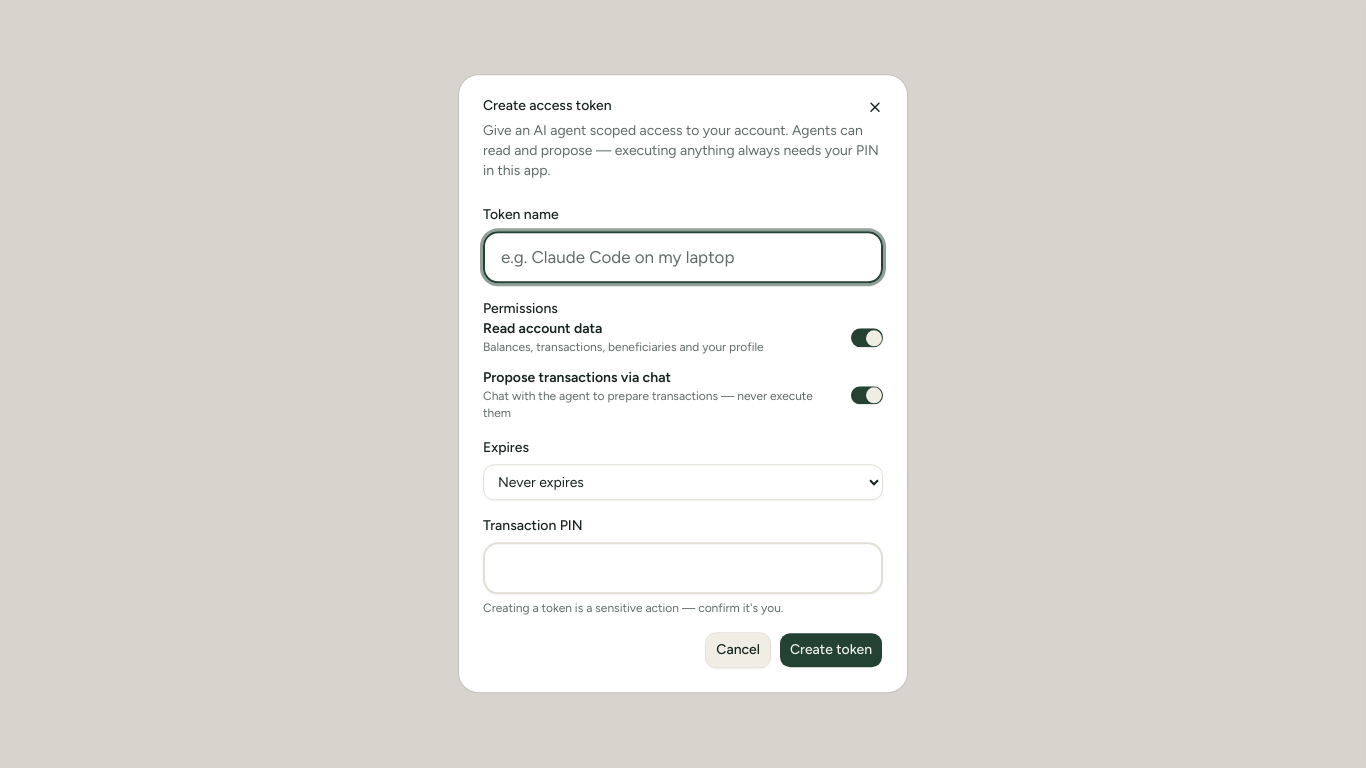
Scenario: CreateTokenDialog › shows the raw token once with the shown-once warning and a copy control
In the field labelled "Token name": (683, 257) [483, 231, 883, 283], type "Claude"
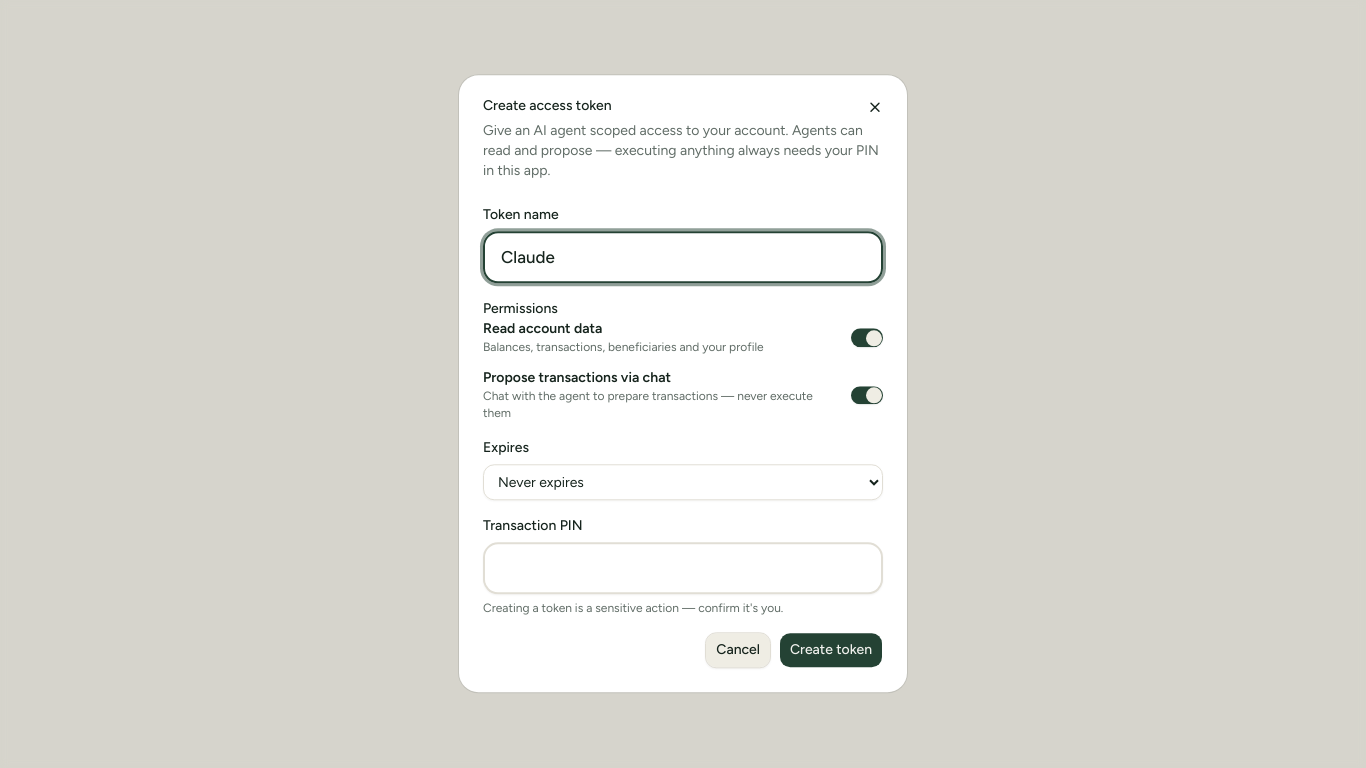
In the password field labelled "Transaction PIN": (683, 569) [483, 543, 883, 595], type "1234"
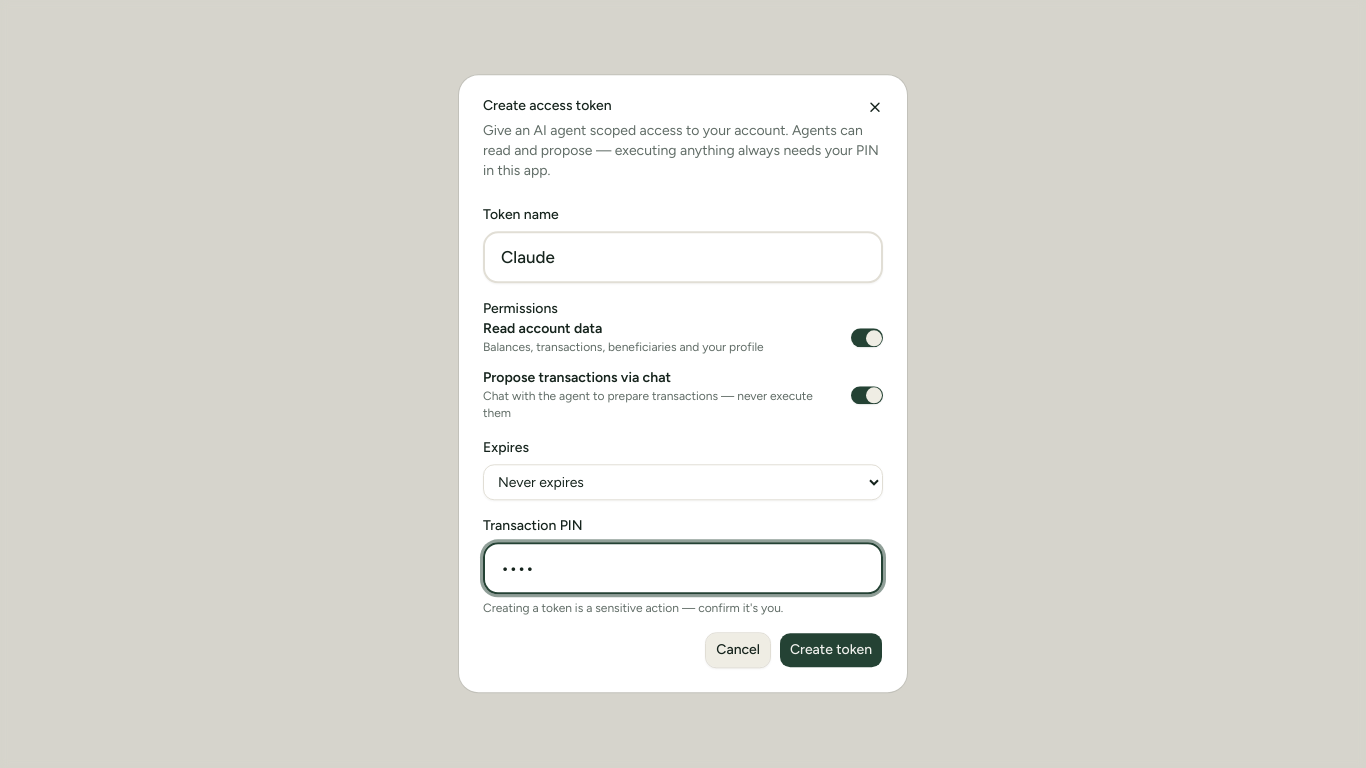
Click the button "Create token": (831, 651) [779, 633, 883, 669]
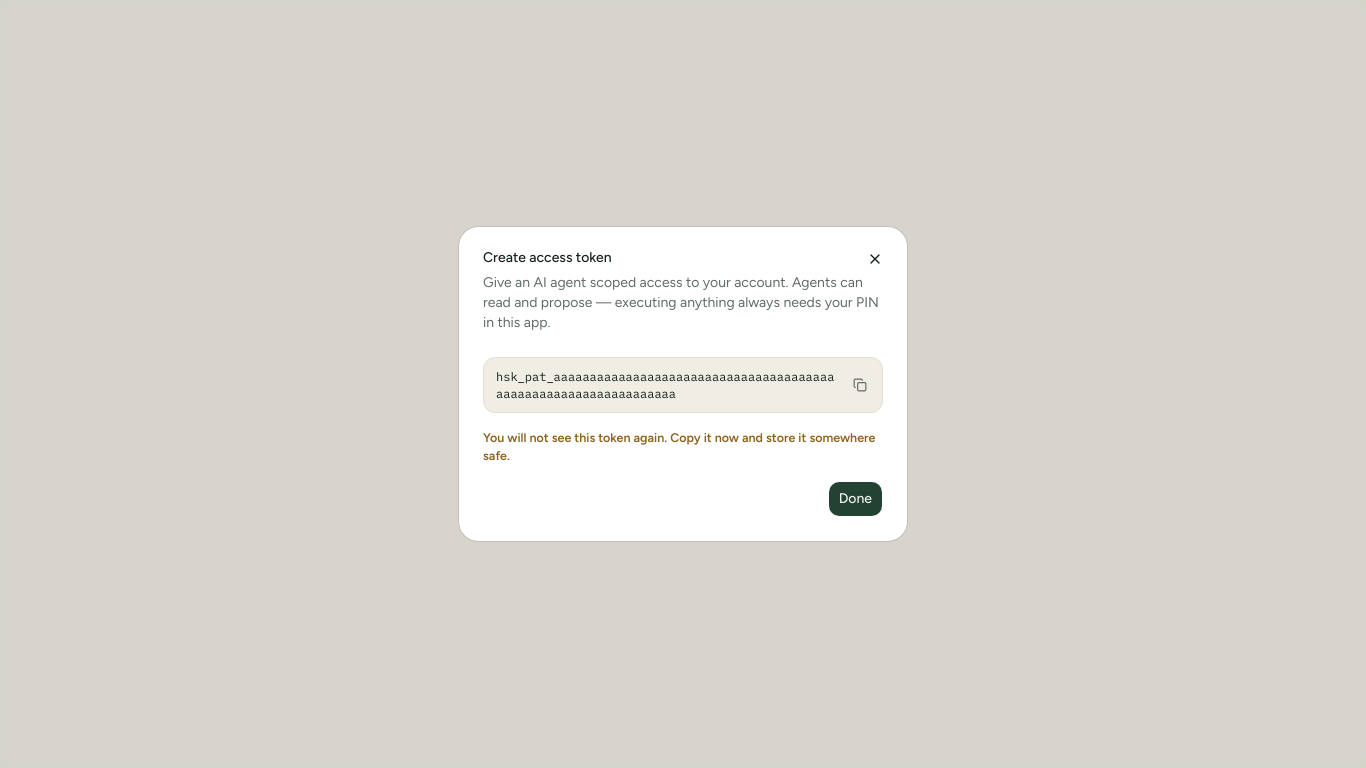
Expected: the text "You will not see this token again. Copy it now and store it somewhere safe." is shown, [483, 429, 883, 465]
Expected: the button named "copy token" is shown, [850, 375, 870, 395]
Expected: the button "Create token" is gone
